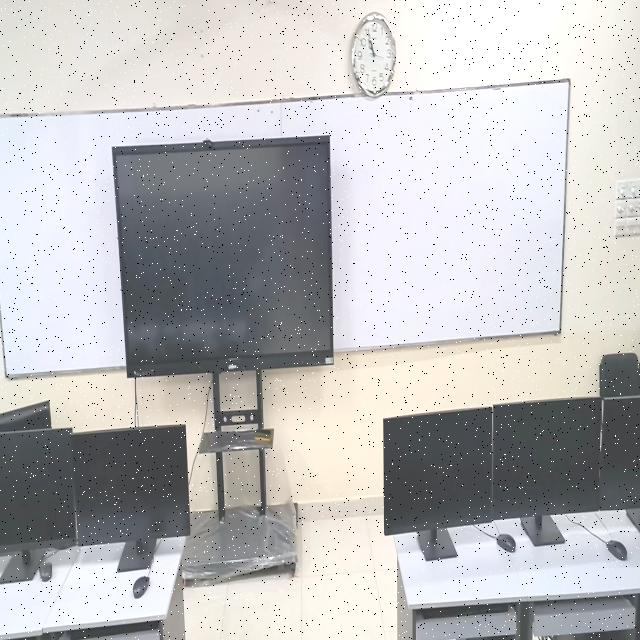Chair: (600, 354, 639, 396)
Cpu: (553, 629, 634, 640)
Digital board: (113, 138, 333, 584)
Monitor: (72, 425, 190, 571), (384, 408, 492, 560), (493, 398, 601, 546), (0, 429, 77, 583), (599, 396, 640, 532), (0, 401, 51, 431)
Mouse: (606, 540, 627, 561), (133, 576, 149, 599), (496, 534, 516, 552), (39, 562, 52, 581)
